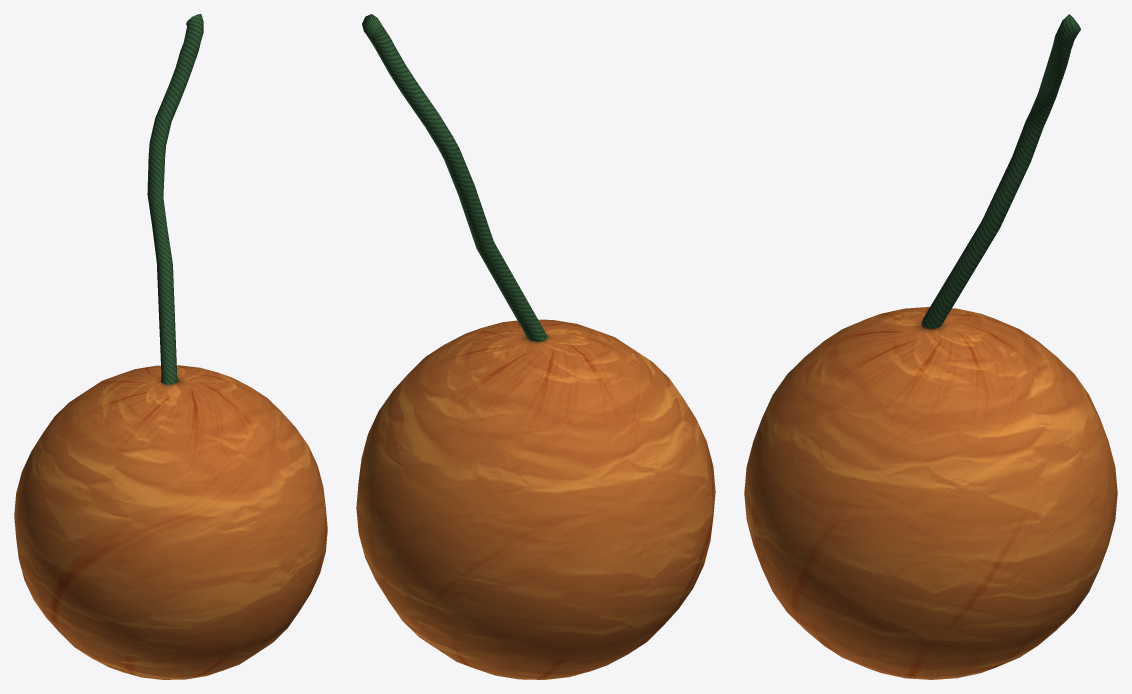
The model's file is bomb4.fbx.
The picture shows the model from 3 angles, left to right: view 1: azimuth 30°, elevation 25°; view 2: azimuth 150°, elevation 25°; view 3: azimuth 270°, elevation 25°; orthographic projection. The views are drawn at different scales.
Parts seen in each view (by area): view 1: polySurface1, polySurface4; view 2: polySurface1, polySurface4; view 3: polySurface1, polySurface4.
Boxes of the visible parts, <box> form: polySurface1: <box>14,365,327,679</box>; polySurface4: <box>147,14,203,384</box>; polySurface1: <box>356,319,715,679</box>; polySurface4: <box>362,14,547,341</box>; polySurface1: <box>744,307,1117,679</box>; polySurface4: <box>921,14,1080,328</box>.
Bounding box in the file's own units: 8 × 16.47 × 8.
1 material, 1 textured.
